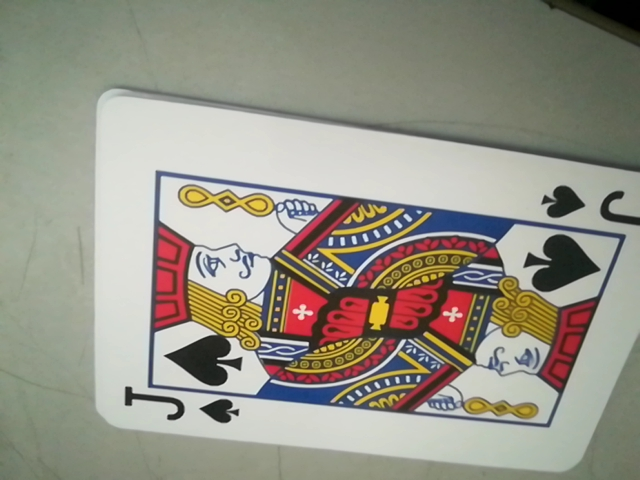ht j: (114, 384, 247, 431)
